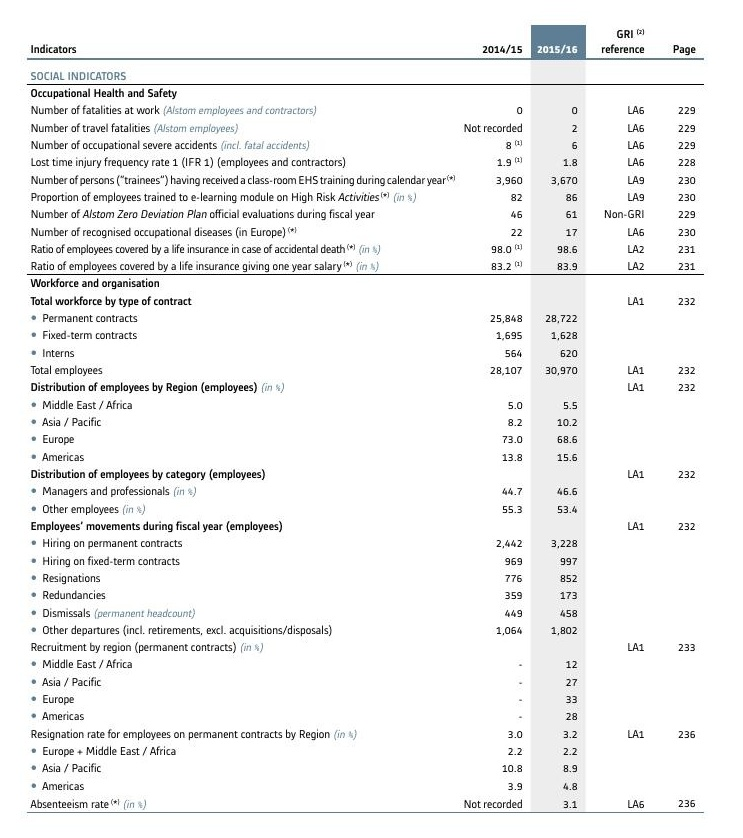table: (0, 0, 743, 838)
